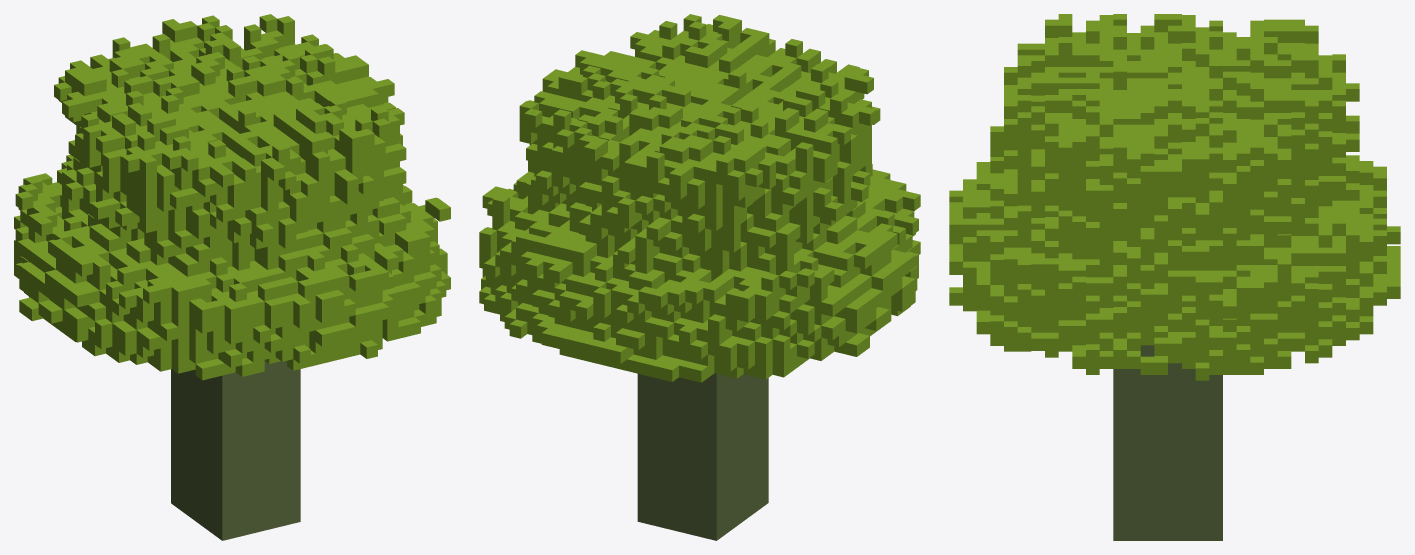
The model's file is Tree2.fbx.
The picture shows the model from 3 angles, left to right: view 1: azimuth 30°, elevation 25°; view 2: azimuth 150°, elevation 25°; view 3: azimuth 270°, elevation 25°; orthographic projection. The views are drawn at different scales.
Parts seen in each view (by area): view 1: tree3; view 2: tree3; view 3: tree3.
Part boxes in pixels (bbox=[...]): tree3: bbox=[14, 14, 450, 540]; tree3: bbox=[479, 14, 920, 540]; tree3: bbox=[949, 14, 1400, 540].
Size of the model in its own units: 3300 by 3600 by 3300.
